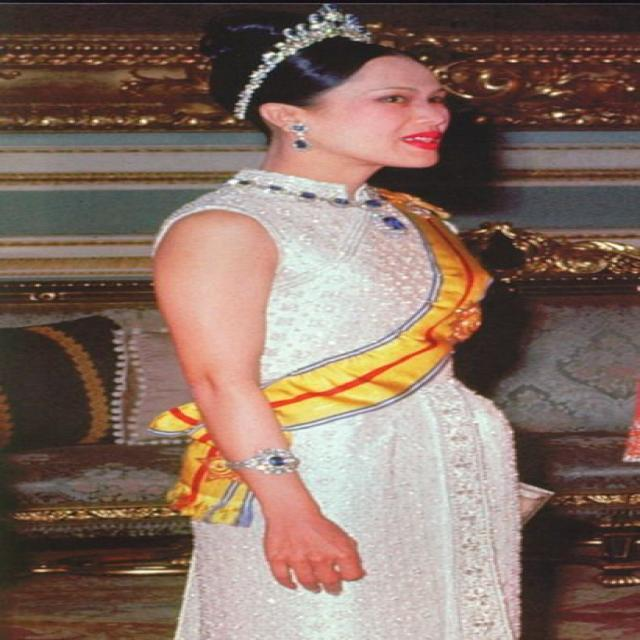Earring: (279, 116, 319, 160)
